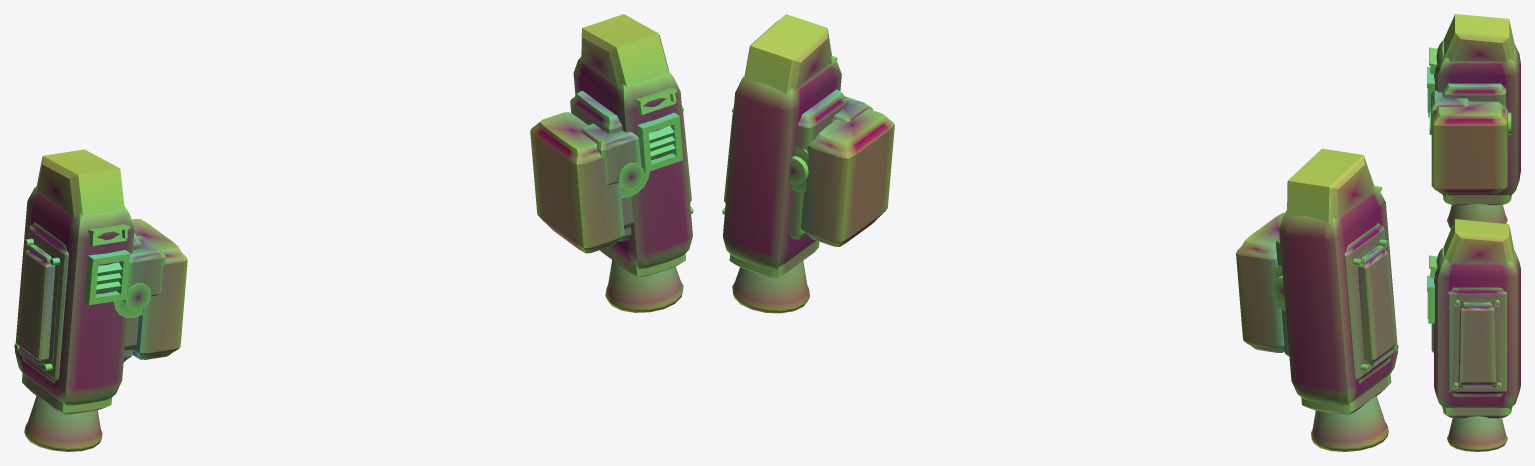
File: llm_gen_leg_thrusters_099_9e20cf.glb
3 views of the same model, side by side, from view 1: azimuth 30°, elevation 25°; view 2: azimuth 150°, elevation 25°; view 3: azimuth 270°, elevation 25° (orthographic). The views are drawn at different scales.
Parts seen in each view (by area): view 1: calf_thruster_hull_1_crimson_gloss_l, adapter_calf_clamp_r, calf_thruster_hull_1_crimson_gloss_r, adapter_calf_clamp_l, nacelle_upper_cowl_2_gold_r, nacelle_upper_cowl_2_gold_l, nacelle_flank_armor_6_gold_l, calf_main_bell_8_vernier_bell_vernier_l, calf_main_bell_8_vernier_bell_vernier_r, adapter_sub_flank_frame_dark_5_adapter_dark_l, adapter_leg_knee_mount_dark_9_adapter_dark_r, adapter_leg_knee_mount_dark_9_adapter_dark_l (+7 smaller); view 2: calf_thruster_hull_1_crimson_gloss_l, calf_thruster_hull_1_crimson_gloss_r, adapter_calf_clamp_r, adapter_calf_clamp_l, nacelle_upper_cowl_2_gold_r, nacelle_upper_cowl_2_gold_l, nacelle_flank_armor_6_gold_l, calf_main_bell_8_vernier_bell_vernier_l, calf_main_bell_8_vernier_bell_vernier_r, adapter_sub_tank_cradle_dark_0_adapter_dark_r, adapter_sub_flank_frame_dark_5_adapter_dark_l, adapter_sub_nozzle_shroud_dark_7_adapter_dark_l (+1 smaller); view 3: adapter_calf_clamp_l, calf_thruster_hull_1_crimson_gloss_r, nacelle_flank_armor_6_gold_r, calf_thruster_hull_1_crimson_gloss_l, nacelle_upper_cowl_2_gold_l, nacelle_upper_cowl_2_gold_r, adapter_sub_flank_frame_dark_5_adapter_dark_r, calf_main_bell_8_vernier_bell_vernier_r, adapter_sub_tank_cradle_dark_0_adapter_dark_l, calf_main_bell_8_vernier_bell_vernier_l, adapter_sub_nozzle_shroud_dark_7_adapter_dark_r, adapter_sub_nozzle_shroud_dark_7_adapter_dark_l (+6 smaller).
Part boxes in pixels (x1=…): calf_thruster_hull_1_crimson_gloss_l: x1=15, y1=185, x2=134, y2=405; adapter_calf_clamp_r: x1=530, y1=112, x2=649, y2=253; calf_thruster_hull_1_crimson_gloss_r: x1=573, y1=56, x2=692, y2=269; adapter_calf_clamp_l: x1=114, y1=219, x2=187, y2=359; nacelle_upper_cowl_2_gold_r: x1=581, y1=14, x2=669, y2=87; nacelle_upper_cowl_2_gold_l: x1=36, y1=149, x2=124, y2=217; nacelle_flank_armor_6_gold_l: x1=14, y1=238, x2=60, y2=371; calf_main_bell_8_vernier_bell_vernier_l: x1=24, y1=396, x2=102, y2=451; calf_main_bell_8_vernier_bell_vernier_r: x1=605, y1=260, x2=683, y2=312; adapter_sub_flank_frame_dark_5_adapter_dark_l: x1=18, y1=222, x2=68, y2=383; adapter_leg_knee_mount_dark_9_adapter_dark_r: x1=580, y1=123, x2=640, y2=184; adapter_leg_knee_mount_dark_9_adapter_dark_l: x1=127, y1=236, x2=165, y2=296; calf_thruster_hull_1_crimson_gloss_l: x1=1279, y1=185, x2=1397, y2=405; calf_thruster_hull_1_crimson_gloss_r: x1=723, y1=56, x2=841, y2=269; adapter_calf_clamp_r: x1=792, y1=109, x2=894, y2=246; adapter_calf_clamp_l: x1=1236, y1=212, x2=1285, y2=352; nacelle_upper_cowl_2_gold_r: x1=744, y1=14, x2=831, y2=95; nacelle_upper_cowl_2_gold_l: x1=1287, y1=148, x2=1374, y2=225; nacelle_flank_armor_6_gold_l: x1=1353, y1=239, x2=1398, y2=371; calf_main_bell_8_vernier_bell_vernier_l: x1=1311, y1=396, x2=1388, y2=451; calf_main_bell_8_vernier_bell_vernier_r: x1=732, y1=261, x2=809, y2=313; adapter_sub_tank_cradle_dark_0_adapter_dark_r: x1=788, y1=89, x2=848, y2=239; adapter_sub_flank_frame_dark_5_adapter_dark_l: x1=1344, y1=223, x2=1394, y2=383; adapter_sub_nozzle_shroud_dark_7_adapter_dark_l: x1=1301, y1=373, x2=1391, y2=414; adapter_calf_clamp_l: x1=1431, y1=101, x2=1507, y2=193; calf_thruster_hull_1_crimson_gloss_r: x1=1434, y1=247, x2=1520, y2=408; nacelle_flank_armor_6_gold_r: x1=1453, y1=300, x2=1501, y2=388; calf_thruster_hull_1_crimson_gloss_l: x1=1434, y1=40, x2=1520, y2=196; nacelle_upper_cowl_2_gold_l: x1=1443, y1=14, x2=1514, y2=62; nacelle_upper_cowl_2_gold_r: x1=1443, y1=219, x2=1514, y2=264; adapter_sub_flank_frame_dark_5_adapter_dark_r: x1=1447, y1=287, x2=1506, y2=396; calf_main_bell_8_vernier_bell_vernier_r: x1=1447, y1=416, x2=1507, y2=451; adapter_sub_tank_cradle_dark_0_adapter_dark_l: x1=1442, y1=83, x2=1506, y2=107; calf_main_bell_8_vernier_bell_vernier_l: x1=1447, y1=204, x2=1507, y2=229; adapter_sub_nozzle_shroud_dark_7_adapter_dark_r: x1=1442, y1=407, x2=1512, y2=418; adapter_sub_nozzle_shroud_dark_7_adapter_dark_l: x1=1443, y1=195, x2=1511, y2=205.
Bounding box in the file's own units: 83.82 × 33.77 × 13.51.
